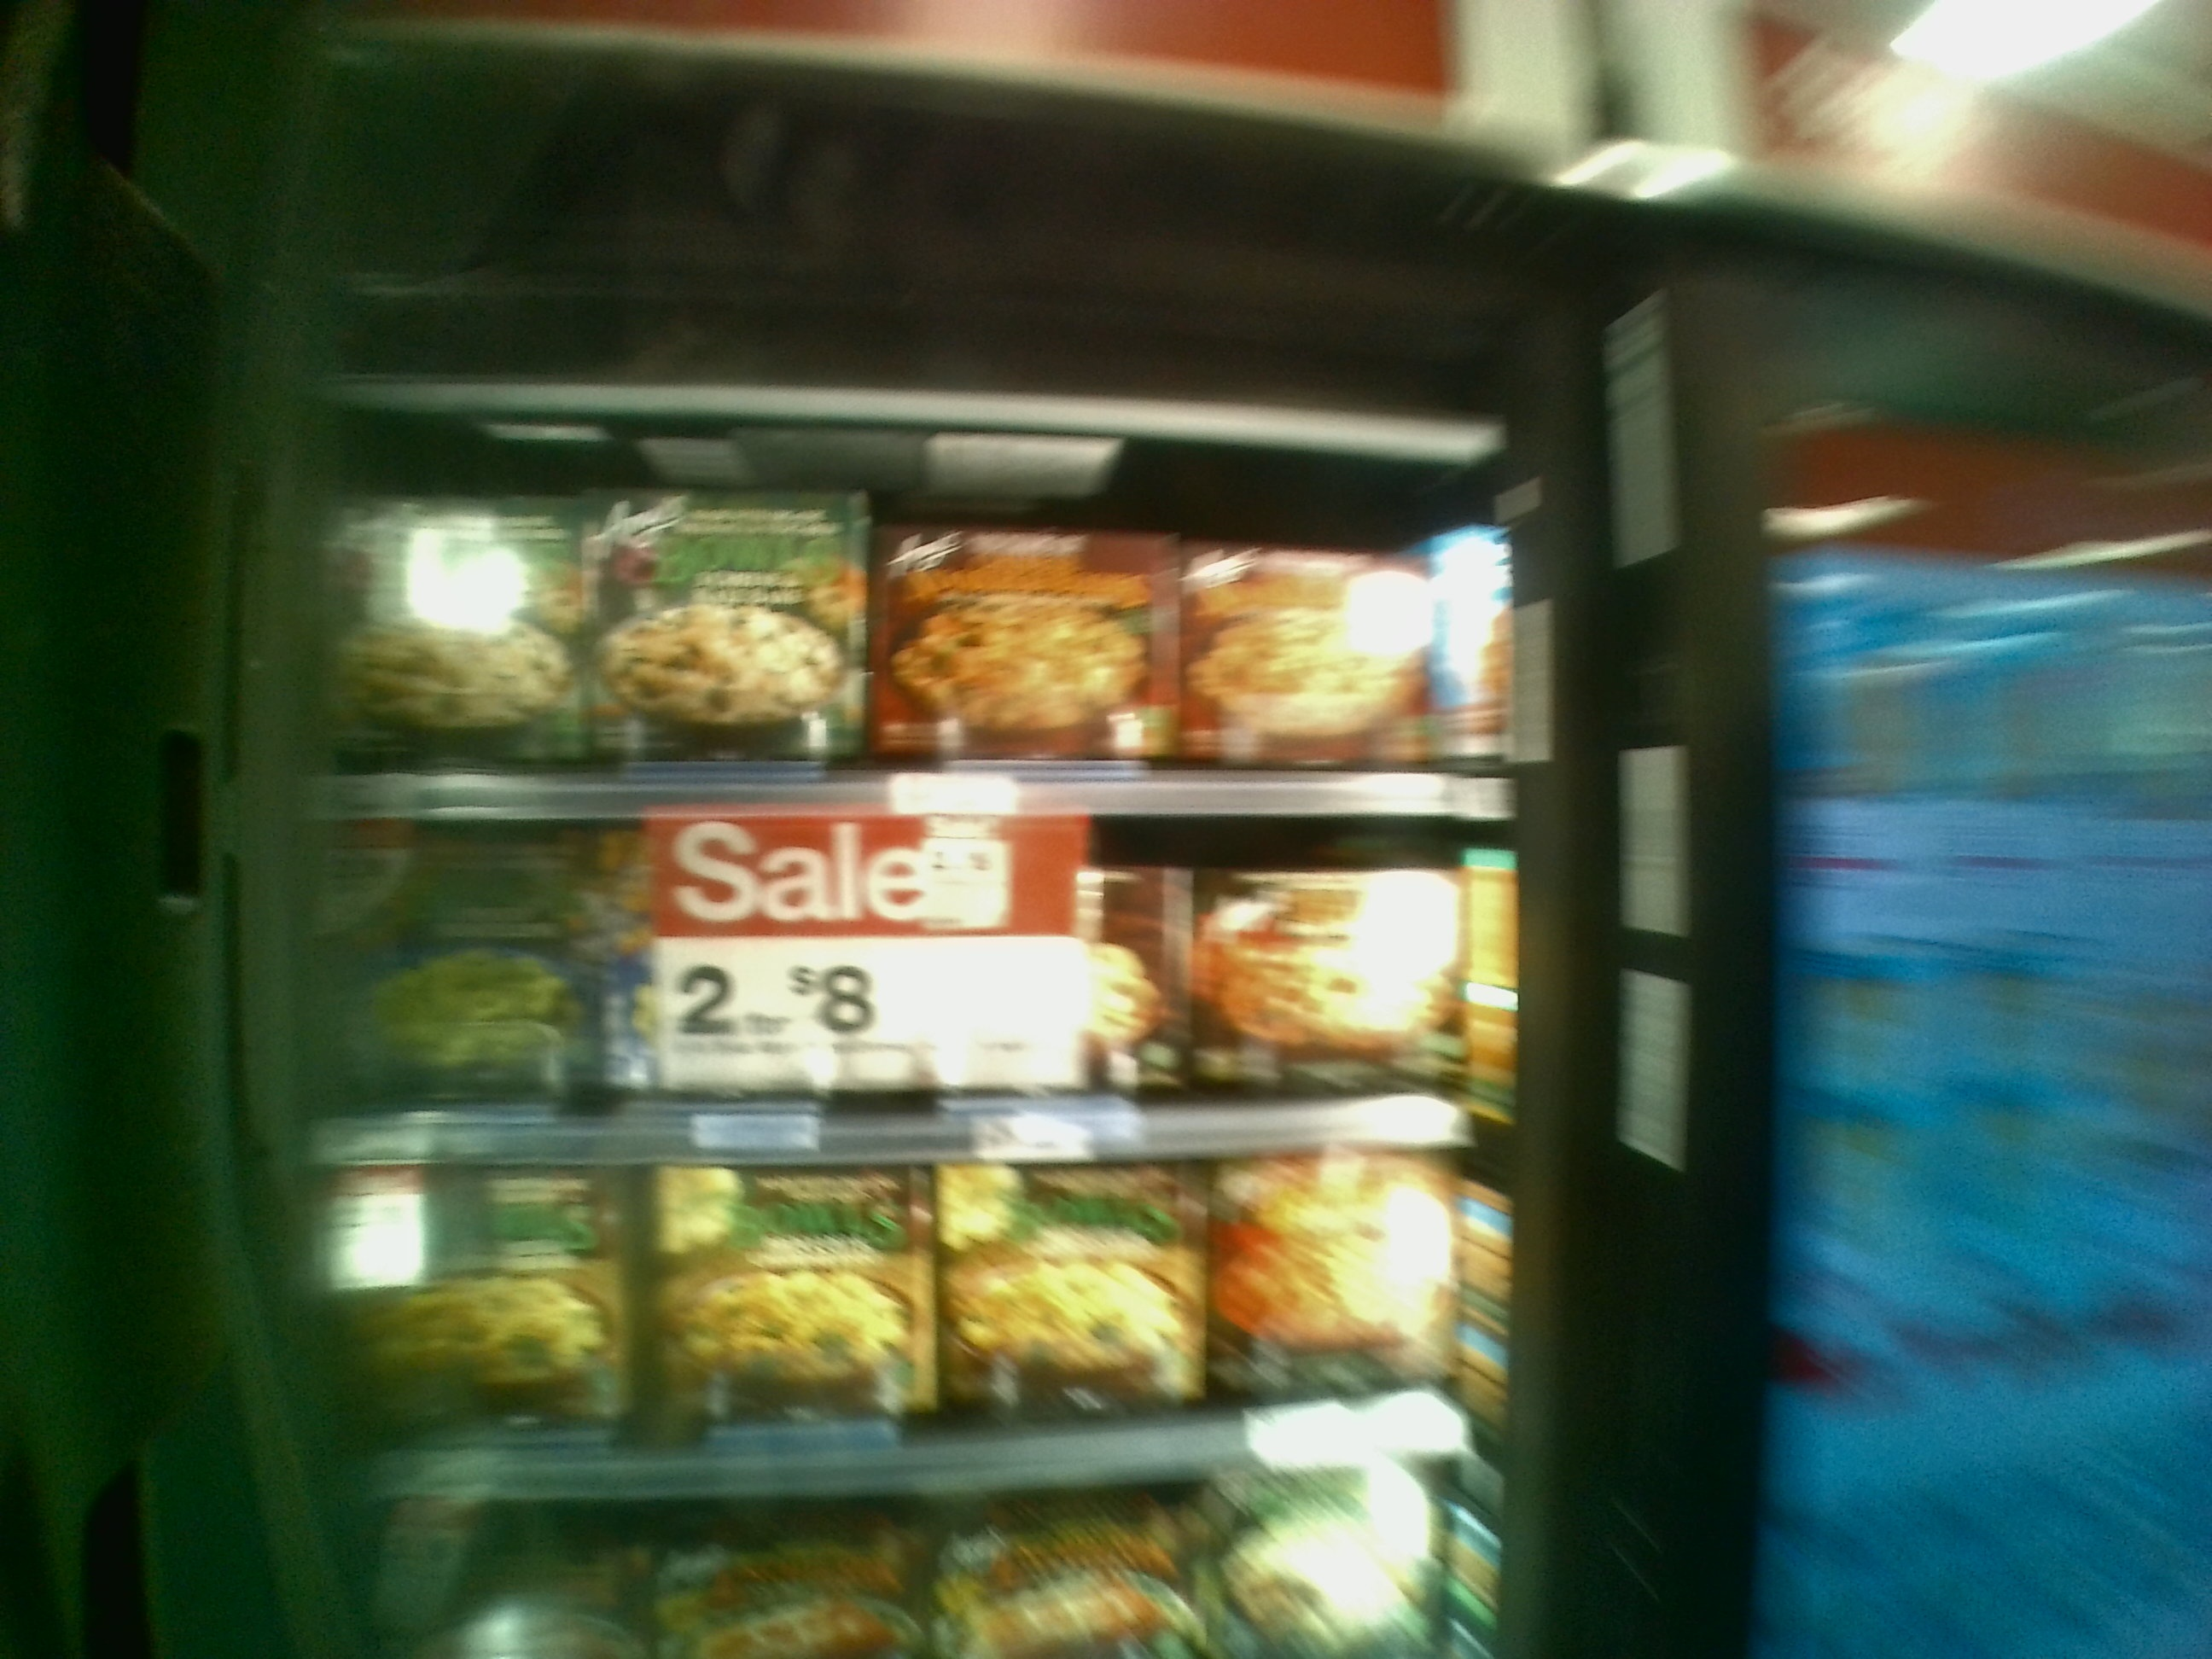shelf: (280, 401, 1505, 829), (289, 821, 1468, 1162), (310, 1162, 1474, 1488)
